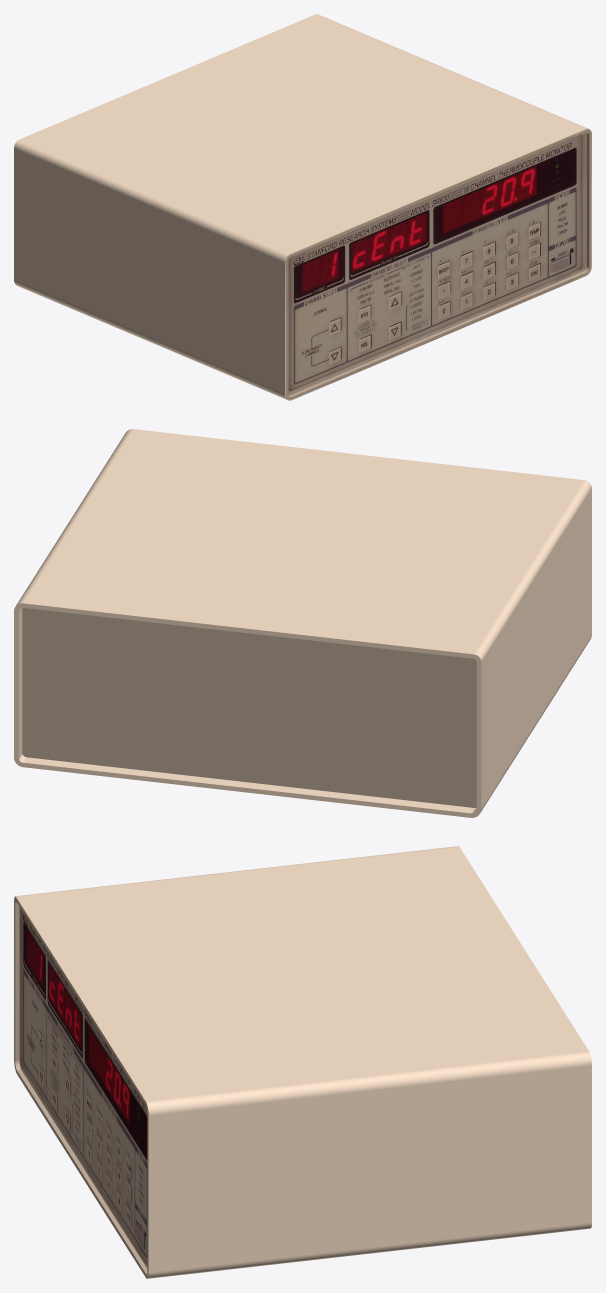
File: asset.glb
The picture shows the model from 3 angles, top to bottom: view 1: azimuth 30°, elevation 25°; view 2: azimuth 150°, elevation 25°; view 3: azimuth 270°, elevation 25°; orthographic projection. The views are drawn at different scales.
Size of the model in its own units: 1.39 by 0.4352 by 1.29.
3 materials, 1 textured.
